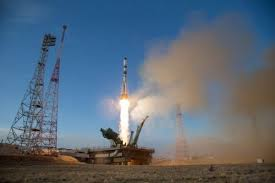ten_lua: (121, 54, 130, 98)
